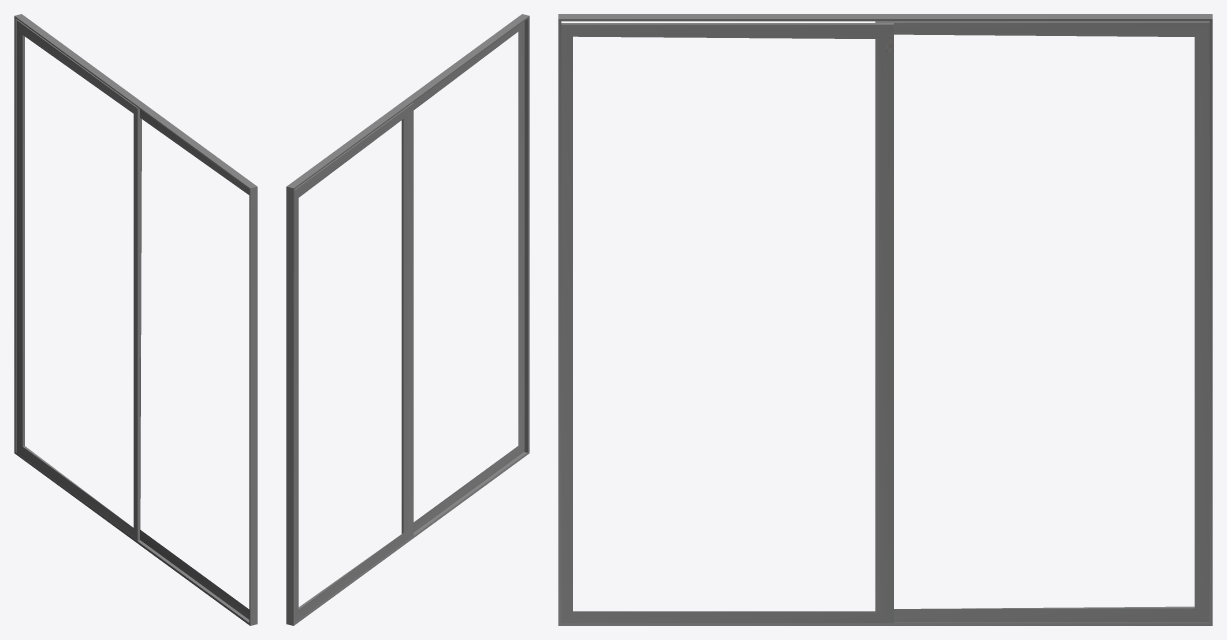
Rendered from FrenchWindow2_0001.obj.
The picture shows the model from 3 angles, left to right: view 1: azimuth 30°, elevation 25°; view 2: azimuth 150°, elevation 25°; view 3: azimuth 270°, elevation 25°; orthographic projection. The views are drawn at different scales.
Bounding box in the file's own units: 0.044 × 2.5 × 2.44.
Materials: 1 (1 with a texture image).
